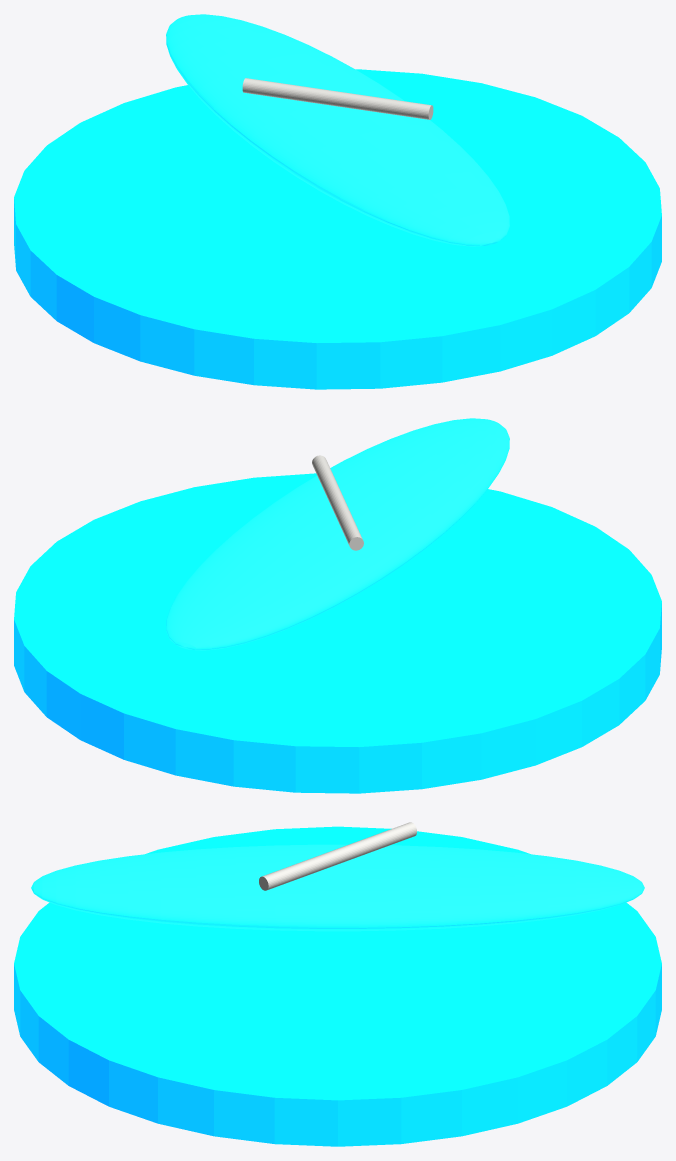
The model's file is sports_surfboard.glb.
3 renders of one model, top to bottom at view 1: azimuth 30°, elevation 25°; view 2: azimuth 150°, elevation 25°; view 3: azimuth 270°, elevation 25°, orthographic.
Visible parts, largest first — view 1: 04_19_Popular_Sports_Surfboard_ROOT_base, 04_19_Popular_Sports_Surfboard_part_01, 04_19_Popular_Sports_Surfboard_part_02; view 2: 04_19_Popular_Sports_Surfboard_ROOT_base, 04_19_Popular_Sports_Surfboard_part_01, 04_19_Popular_Sports_Surfboard_part_02; view 3: 04_19_Popular_Sports_Surfboard_ROOT_base, 04_19_Popular_Sports_Surfboard_part_01, 04_19_Popular_Sports_Surfboard_part_02.
Boxes of the visible parts, x1,y1,x2,y2 form: 04_19_Popular_Sports_Surfboard_ROOT_base: (14,69,661,389); 04_19_Popular_Sports_Surfboard_part_01: (166,14,509,246); 04_19_Popular_Sports_Surfboard_part_02: (242,78,433,119); 04_19_Popular_Sports_Surfboard_ROOT_base: (14,473,661,793); 04_19_Popular_Sports_Surfboard_part_01: (166,418,509,650); 04_19_Popular_Sports_Surfboard_part_02: (312,455,363,550); 04_19_Popular_Sports_Surfboard_ROOT_base: (14,826,661,1146); 04_19_Popular_Sports_Surfboard_part_01: (31,844,644,931); 04_19_Popular_Sports_Surfboard_part_02: (259,822,416,890).
Size of the model in its own units: 0.76 by 0.2072 by 0.76.
